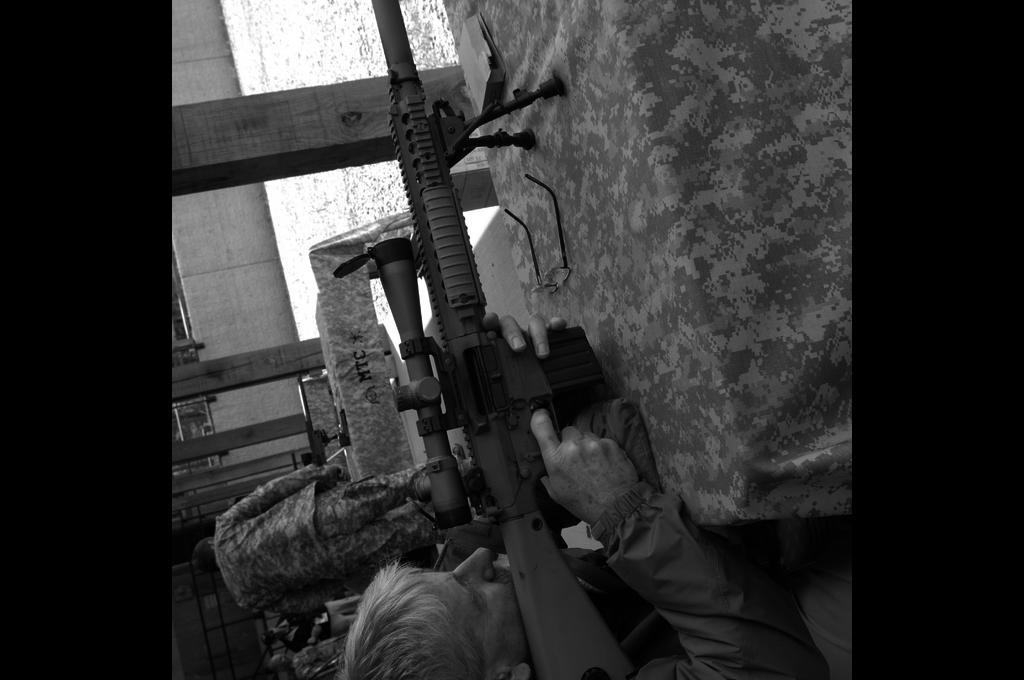gun: (335, 0, 640, 680)
